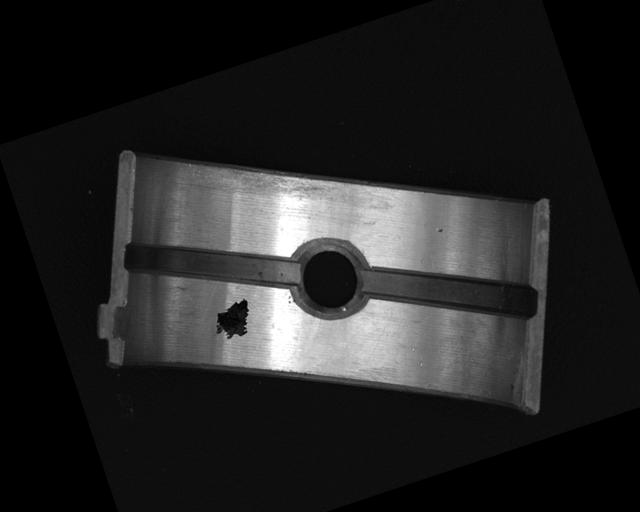blot: (206, 295, 259, 344)
bruise: (433, 224, 445, 235)
gap: (358, 220, 540, 362), (119, 196, 303, 331)
hole: (282, 230, 378, 329)
scratch: (182, 117, 346, 235)
